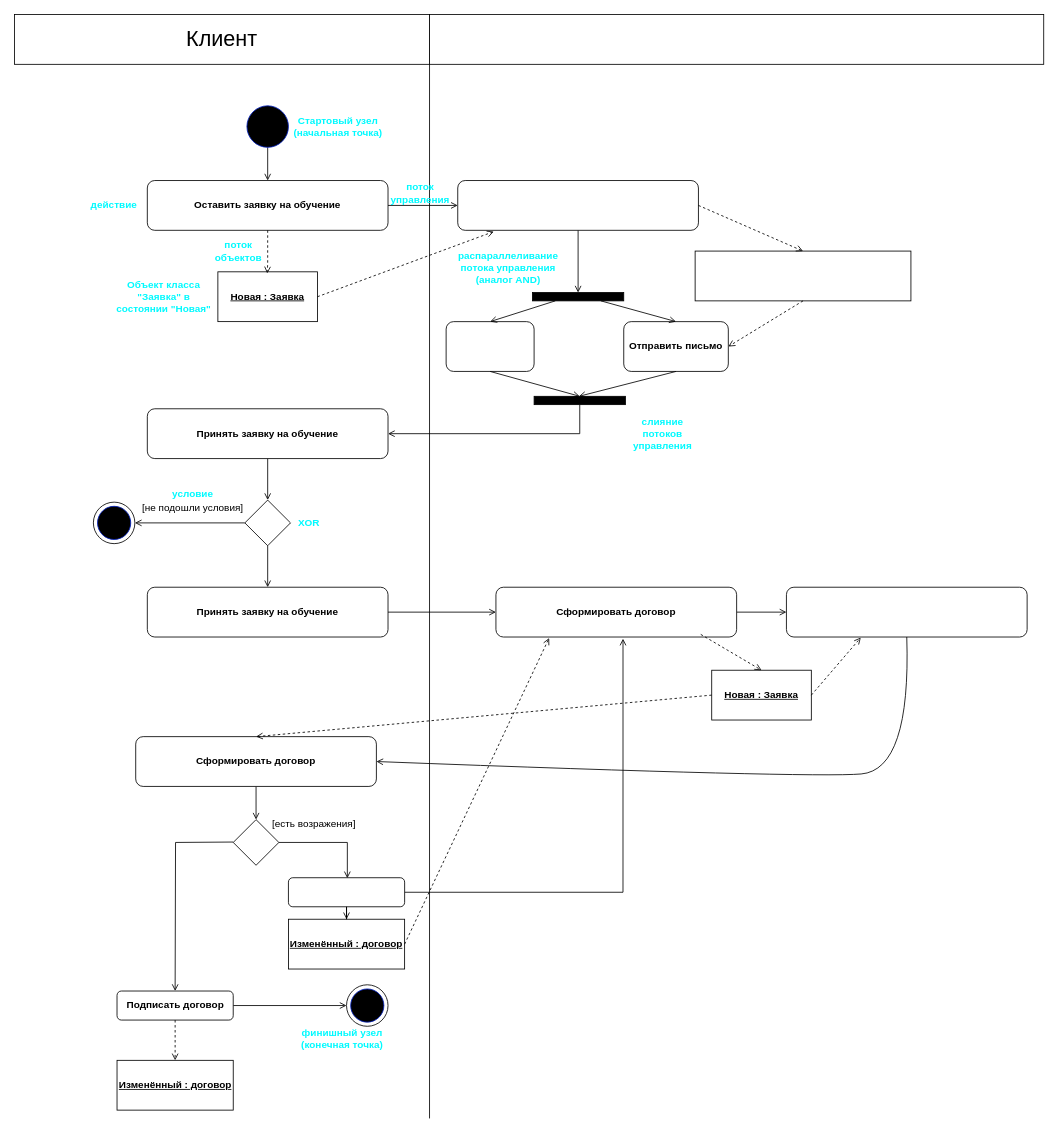
Some shapes in this 1058 by 1134 pixel diagram are drawn without their labels. The box of each missing label's shape, as (x1, y1, x2, y2) in pixels:
Внести изменения: (288, 877, 405, 907)
Менеджер: (429, 14, 1044, 64)
Новое : Коммерческие предложение: (694, 250, 911, 301)
Отправить на согласование: (786, 586, 1027, 637)
Позвонить: (445, 321, 534, 371)
Сформировать коммерческое предложение: (457, 180, 698, 230)
